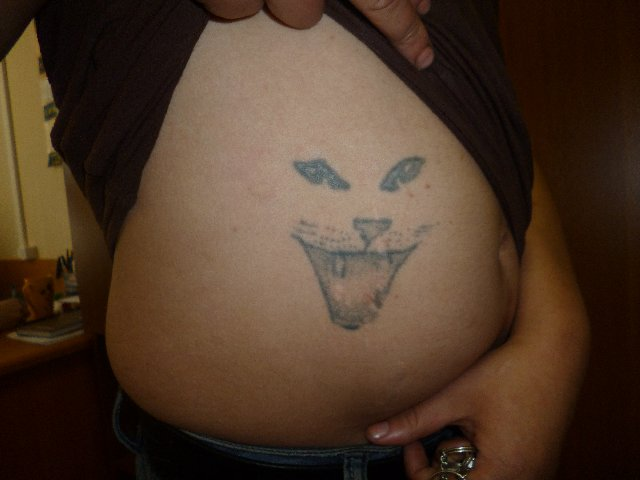tatu8_kot: (267, 140, 449, 338)
